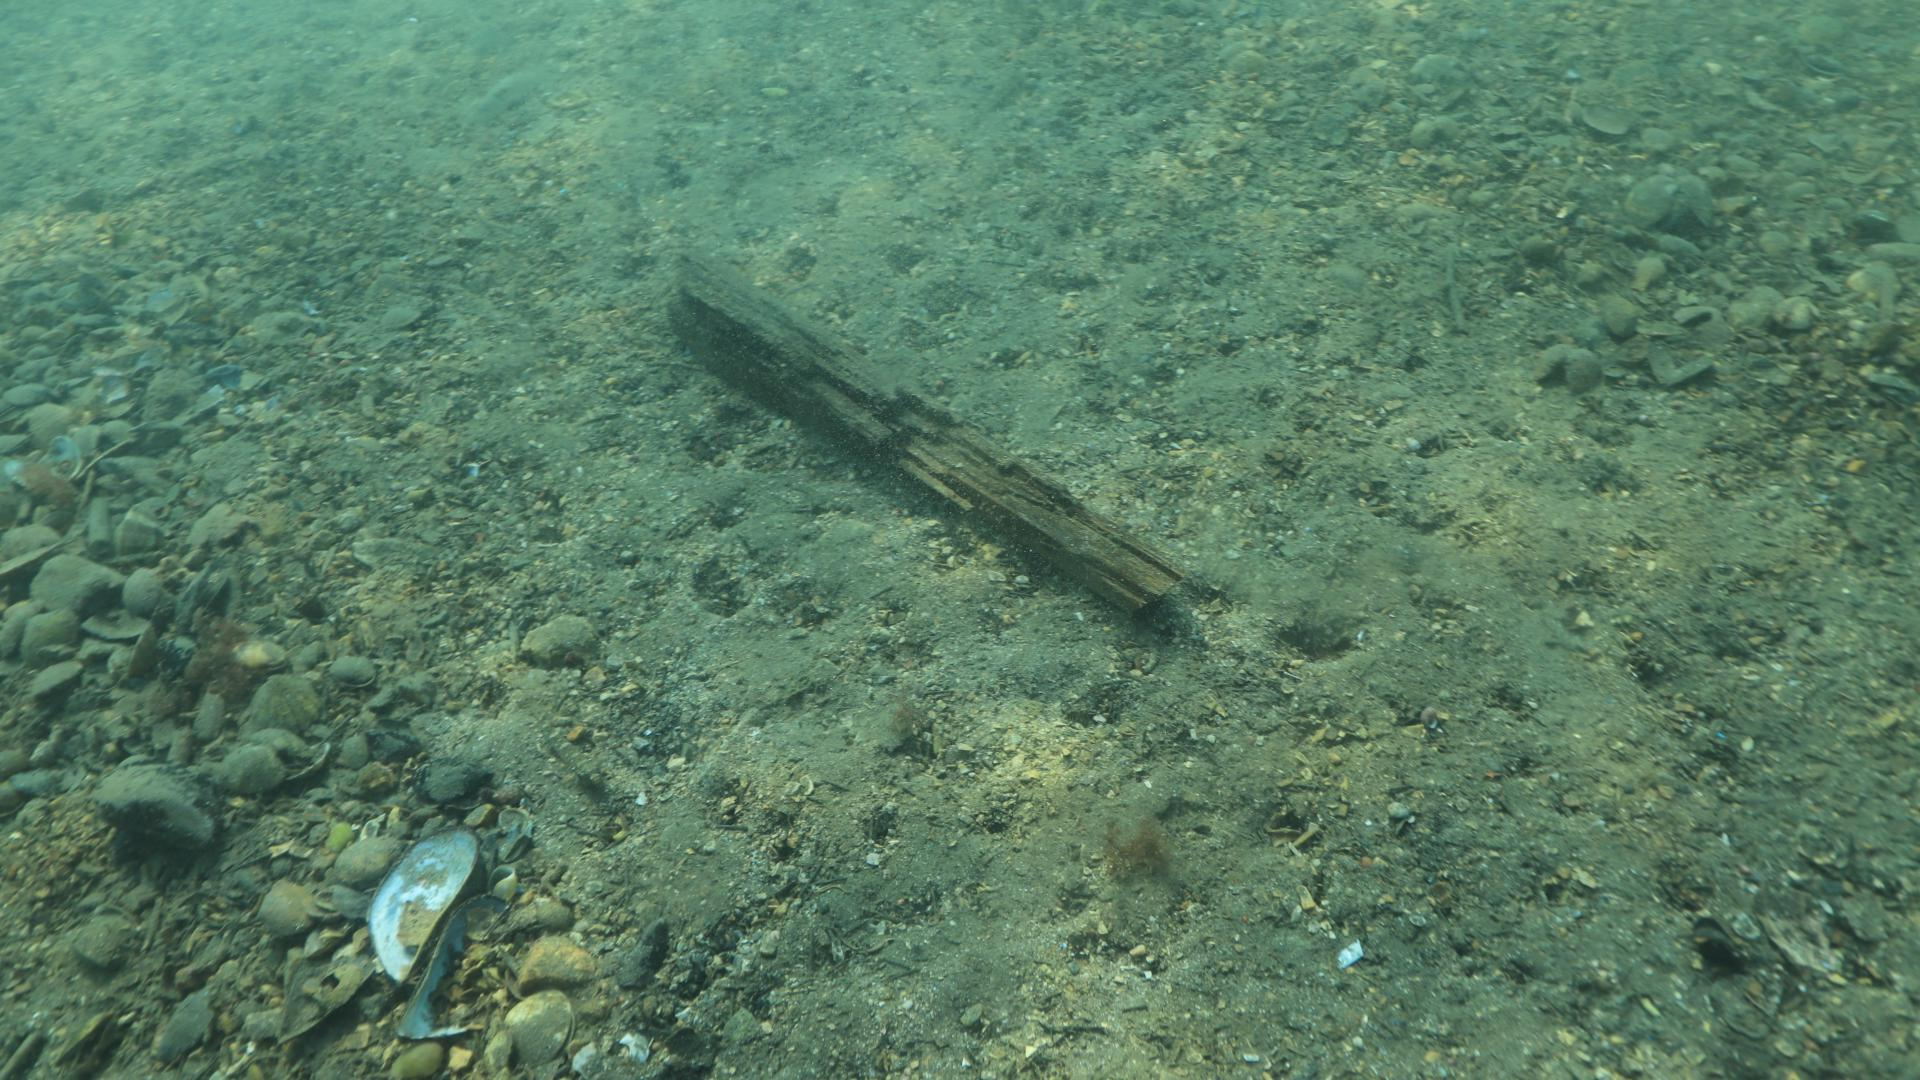wood: (662, 252, 1185, 616)
